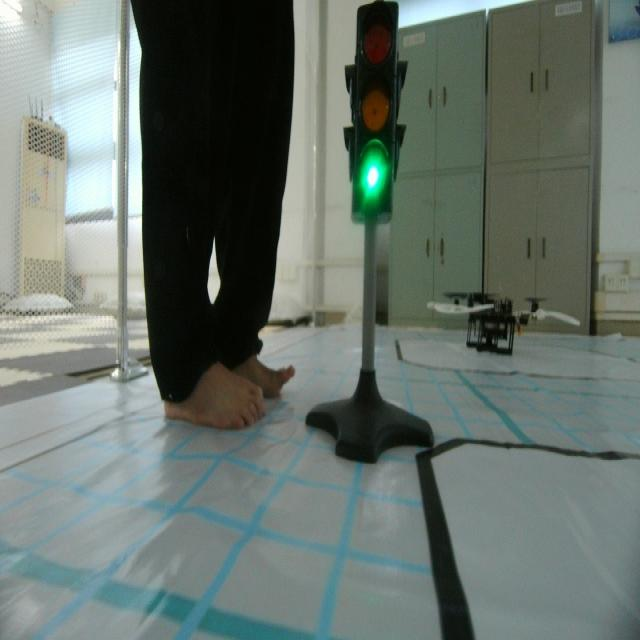green: (350, 8, 394, 227)
